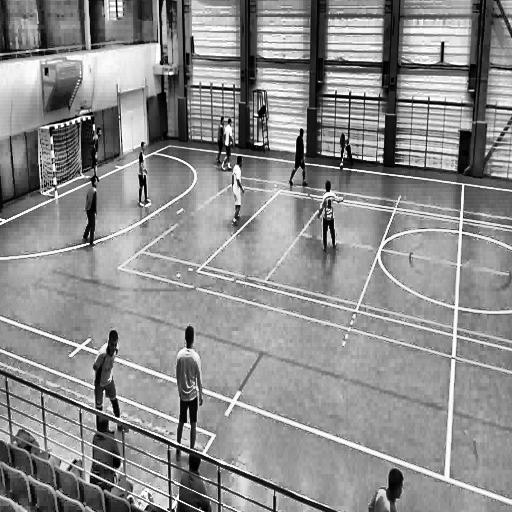ball: (337, 160, 344, 174)
player: (174, 320, 208, 464), (88, 410, 129, 502), (94, 326, 124, 436), (175, 447, 218, 512), (315, 179, 344, 255), (80, 172, 100, 254), (288, 126, 309, 195), (135, 139, 152, 212), (230, 153, 244, 231), (220, 115, 238, 173), (91, 123, 105, 182), (336, 128, 354, 170), (214, 114, 226, 164)
